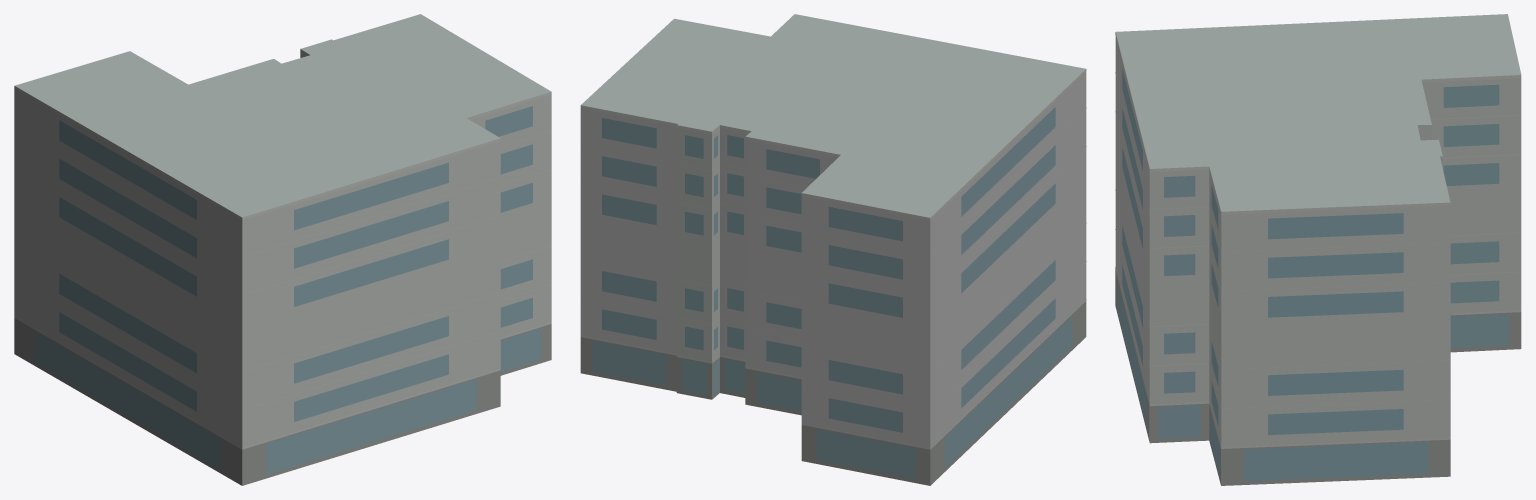
File: survey-upis-32668632.glb
3 views of the same model, side by side, from view 1: azimuth 30°, elevation 25°; view 2: azimuth 150°, elevation 25°; view 3: azimuth 270°, elevation 25° (orthographic). The views are drawn at different scales.
Parts seen in each view (by area): view 1: survey-upis-32668632.tmp; view 2: survey-upis-32668632.tmp; view 3: survey-upis-32668632.tmp.
Boxes of the visible parts, x1=… form: survey-upis-32668632.tmp: x1=14, y1=14, x2=551, y2=485; survey-upis-32668632.tmp: x1=580, y1=14, x2=1086, y2=485; survey-upis-32668632.tmp: x1=1115, y1=14, x2=1521, y2=485.
Bounding box in the file's own units: 32.21 × 20.8 × 27.94.
